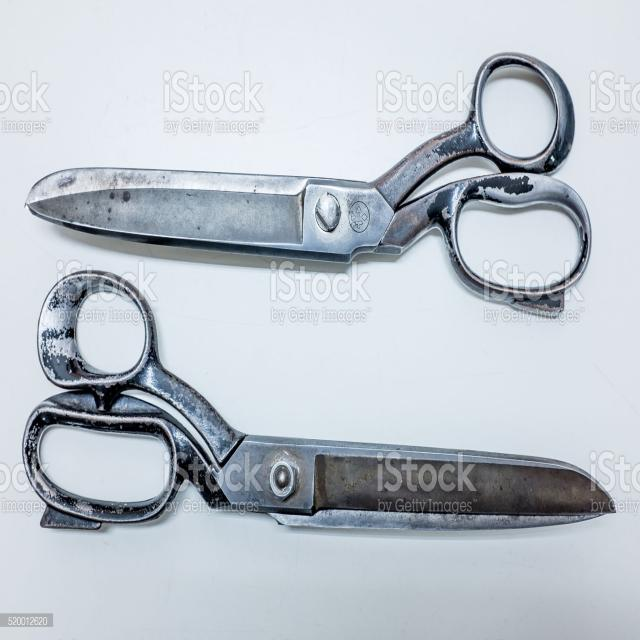scissor: (18, 272, 635, 558)
